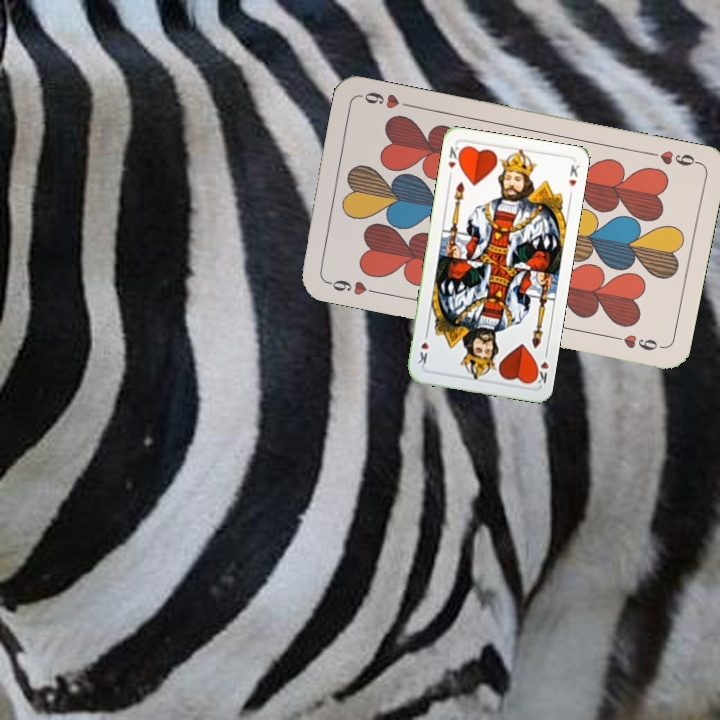H9: (642, 146, 701, 169), (321, 275, 380, 298)
HK: (529, 347, 551, 386), (444, 142, 465, 182)
